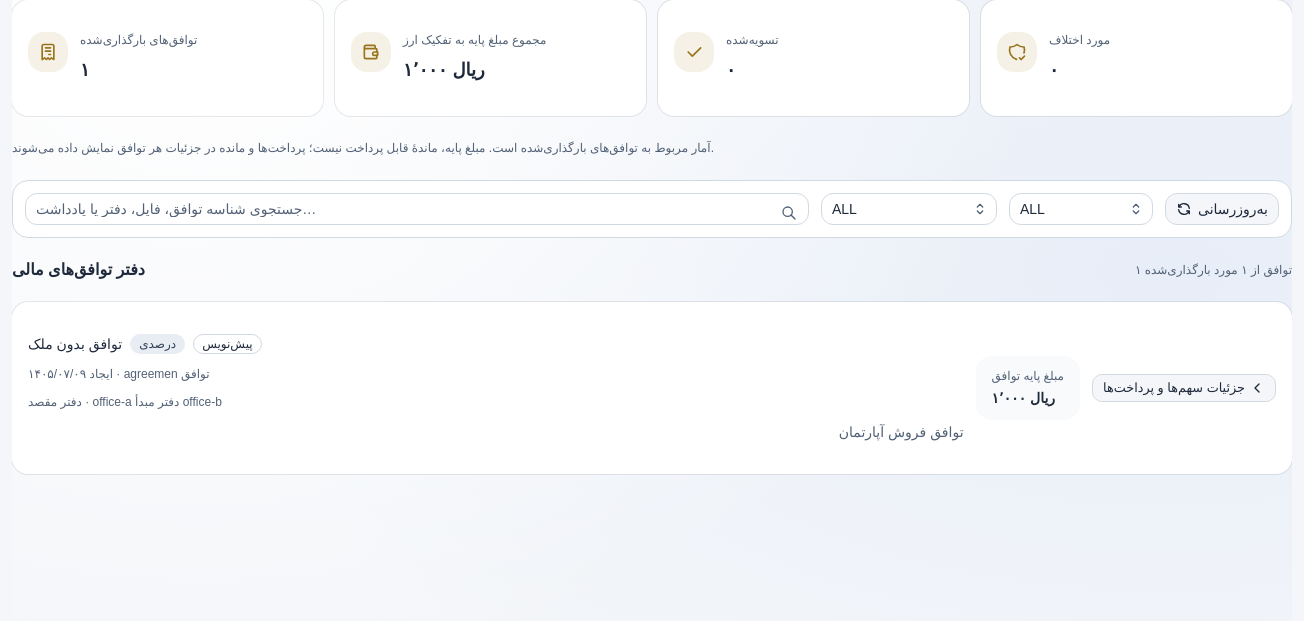
it: searches notes and resets empty filters
The image size is (1304, 621).
Type "ویلا" into the field at (417, 209), box x1=25 y1=193 x2=809 y2=225
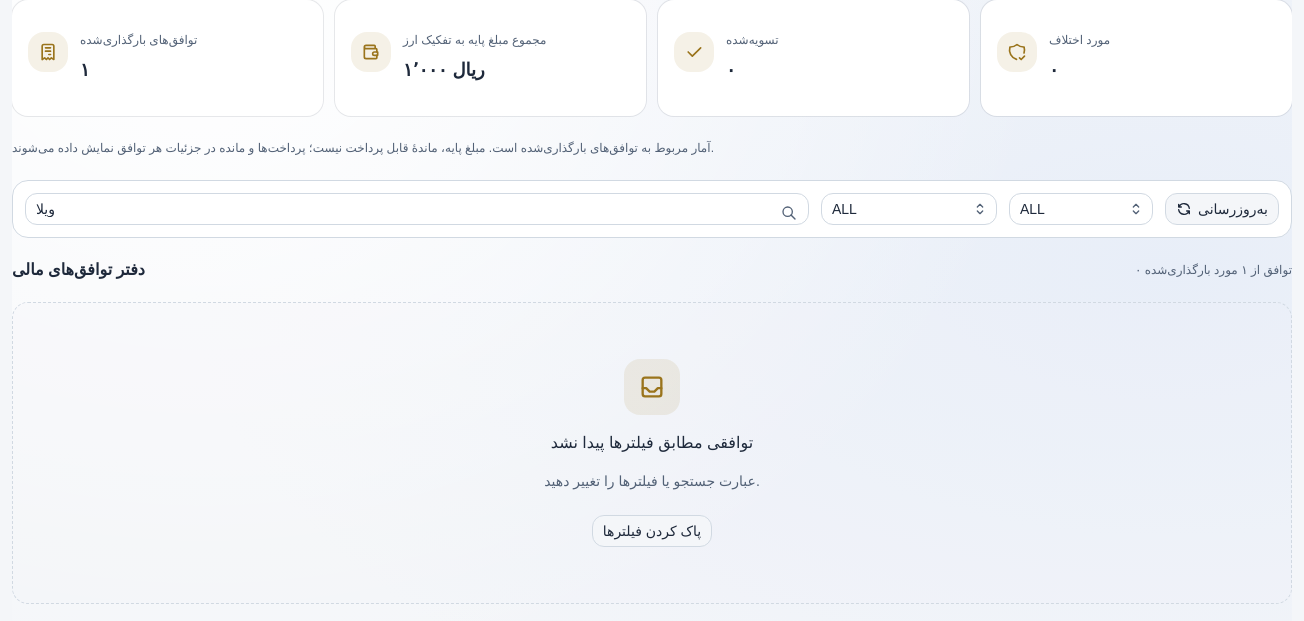
Result: the text "توافقی مطابق فیلترها پیدا نشد" is shown at x1=551 y1=431 x2=753 y2=455
Click the button "پاک کردن فیلترها" at (652, 531), box x1=592 y1=515 x2=712 y2=547
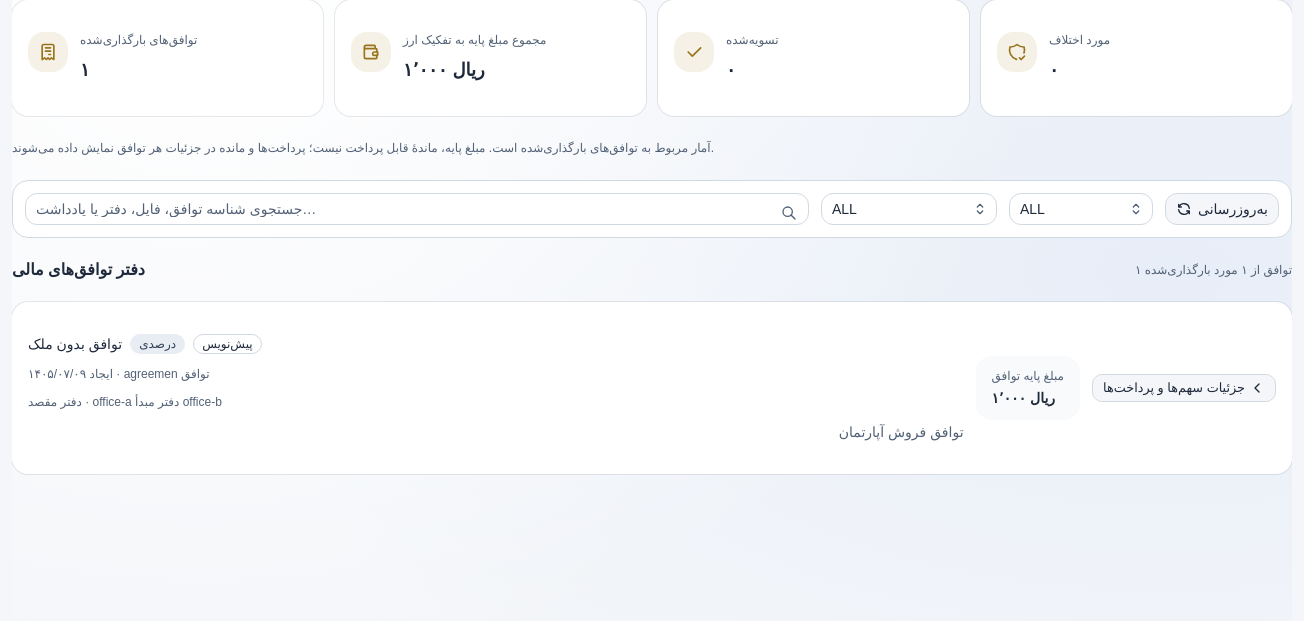
Result: the button "جزئیات سهم‌ها و پرداخت‌ها" is shown at x1=1092 y1=374 x2=1276 y2=402
